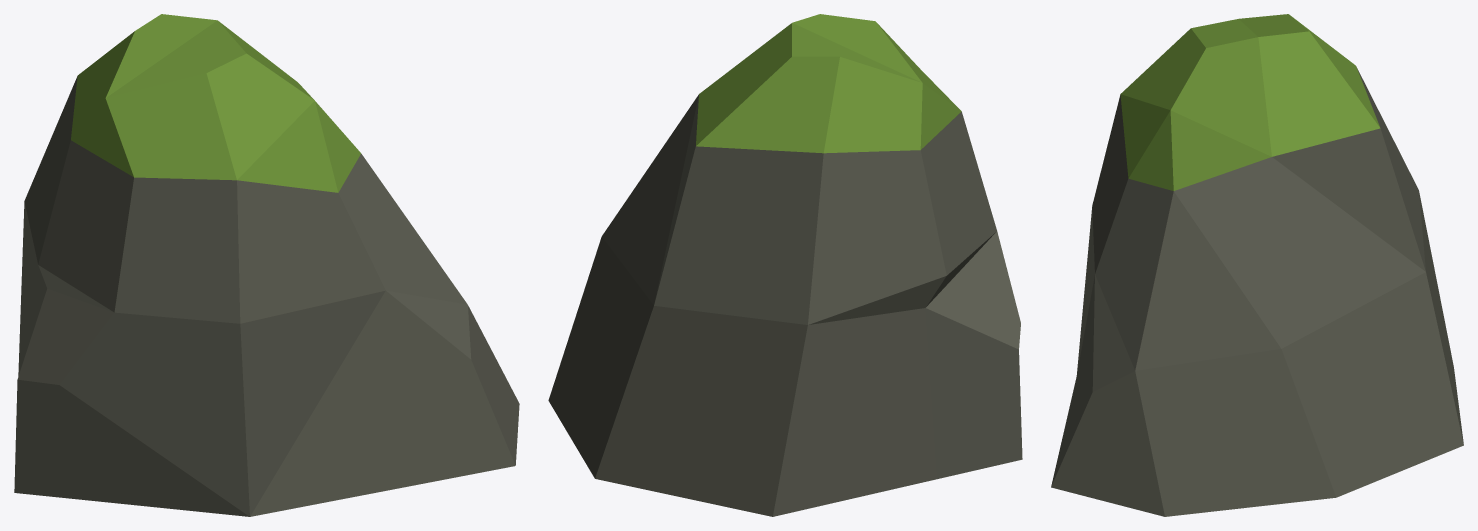
Rendered from green_rock_L_02.fbx.
The picture shows the model from 3 angles, left to right: view 1: azimuth 30°, elevation 25°; view 2: azimuth 150°, elevation 25°; view 3: azimuth 270°, elevation 25°; orthographic projection. The views are drawn at different scales.
Visible parts, largest first — view 1: Cube.022; view 2: Cube.022; view 3: Cube.022.
Part boxes in pixels (x1,y1,x2,y2): Cube.022: [14, 14, 519, 516]; Cube.022: [548, 14, 1022, 516]; Cube.022: [1051, 14, 1463, 516].
Size of the model in its own units: 904 by 747 by 758.
